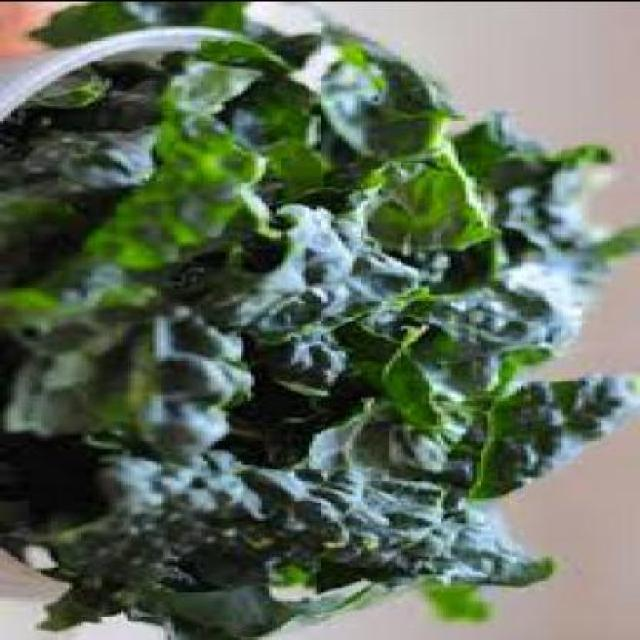BIODEGRADABLE: (4, 38, 265, 567), (240, 69, 397, 620), (415, 107, 639, 371), (386, 242, 491, 570), (302, 24, 466, 168), (473, 371, 639, 497), (69, 566, 294, 639), (32, 2, 336, 49), (382, 141, 498, 248), (415, 502, 559, 580), (40, 573, 142, 627), (422, 579, 498, 616)
